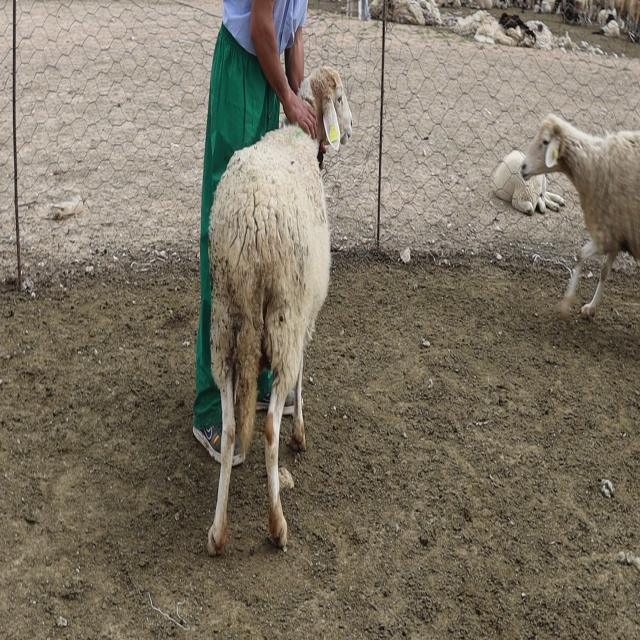Score_5: (208, 67, 352, 555)
